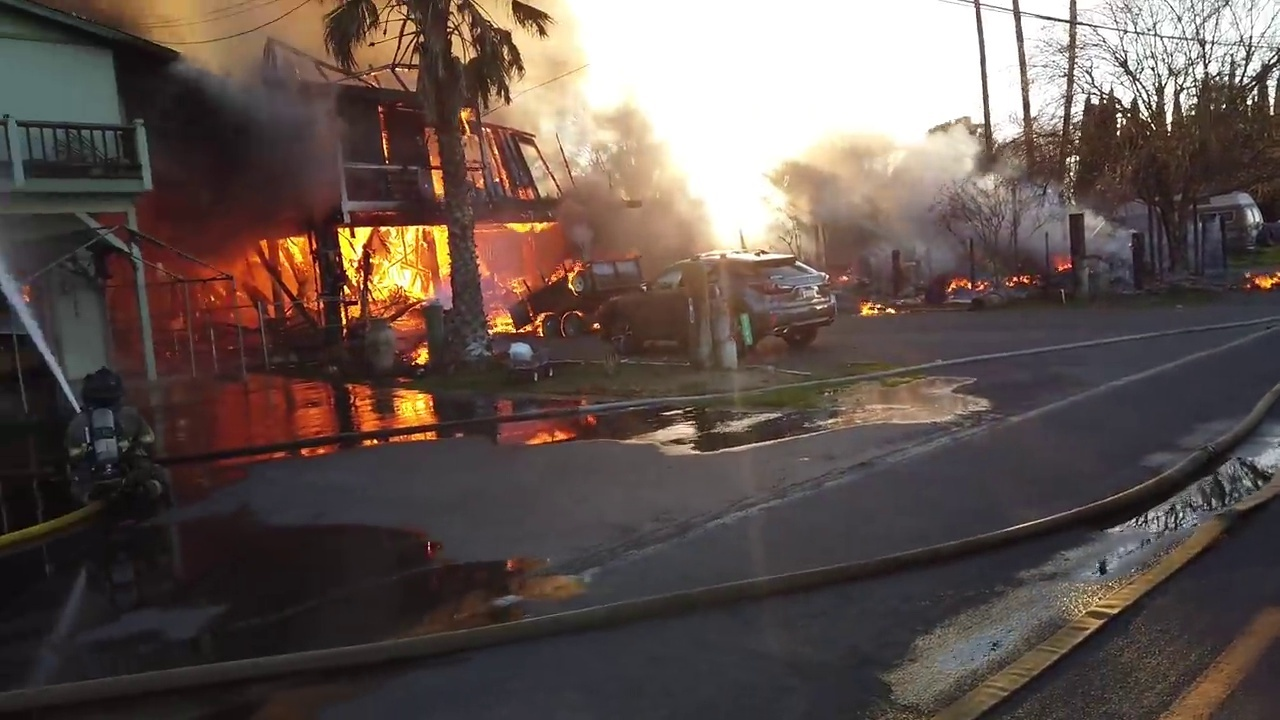fire: (189, 236, 321, 325), (339, 230, 451, 309), (488, 255, 594, 336), (704, 237, 771, 257), (501, 215, 557, 231), (826, 264, 860, 289), (857, 298, 899, 313), (1246, 271, 1279, 289), (20, 283, 42, 307), (946, 278, 989, 290), (999, 274, 1036, 286)
smoke: (514, 1, 716, 248), (145, 1, 514, 100), (144, 57, 345, 235), (774, 109, 989, 271)
